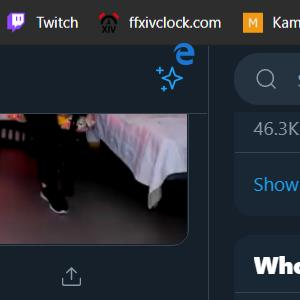edge: (172, 42, 195, 66)
